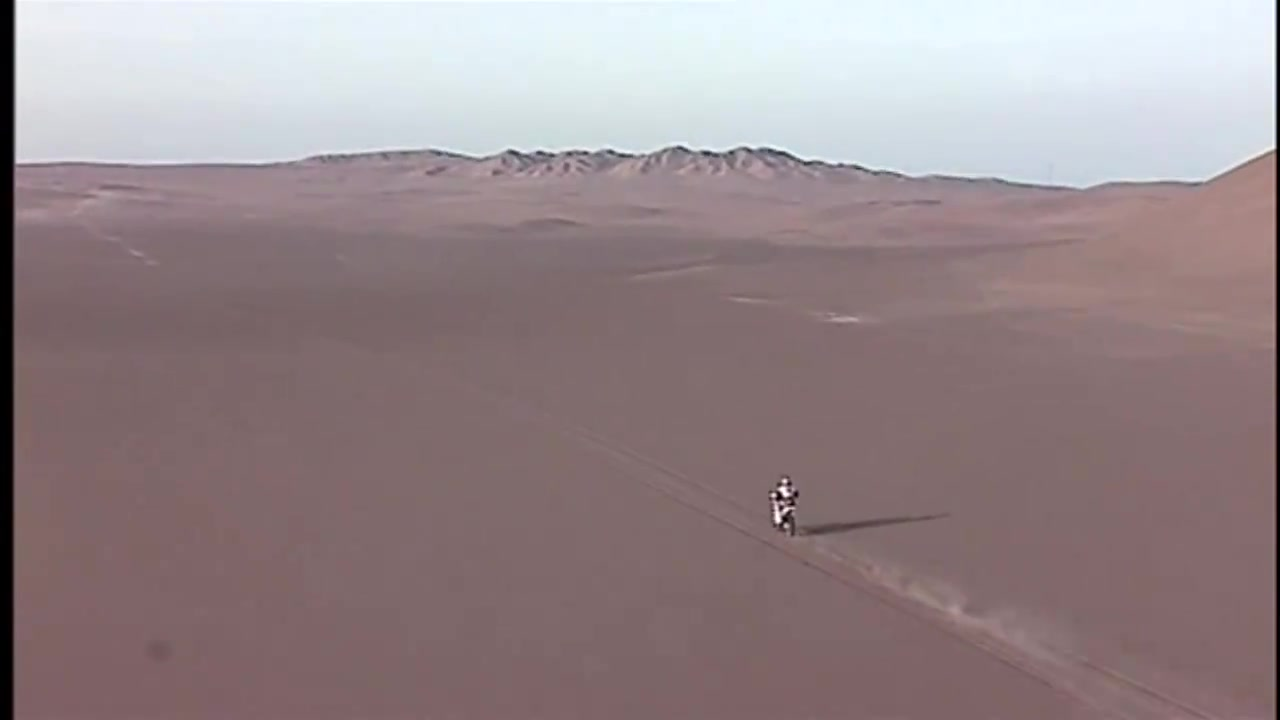motorbike: (765, 490, 805, 536)
